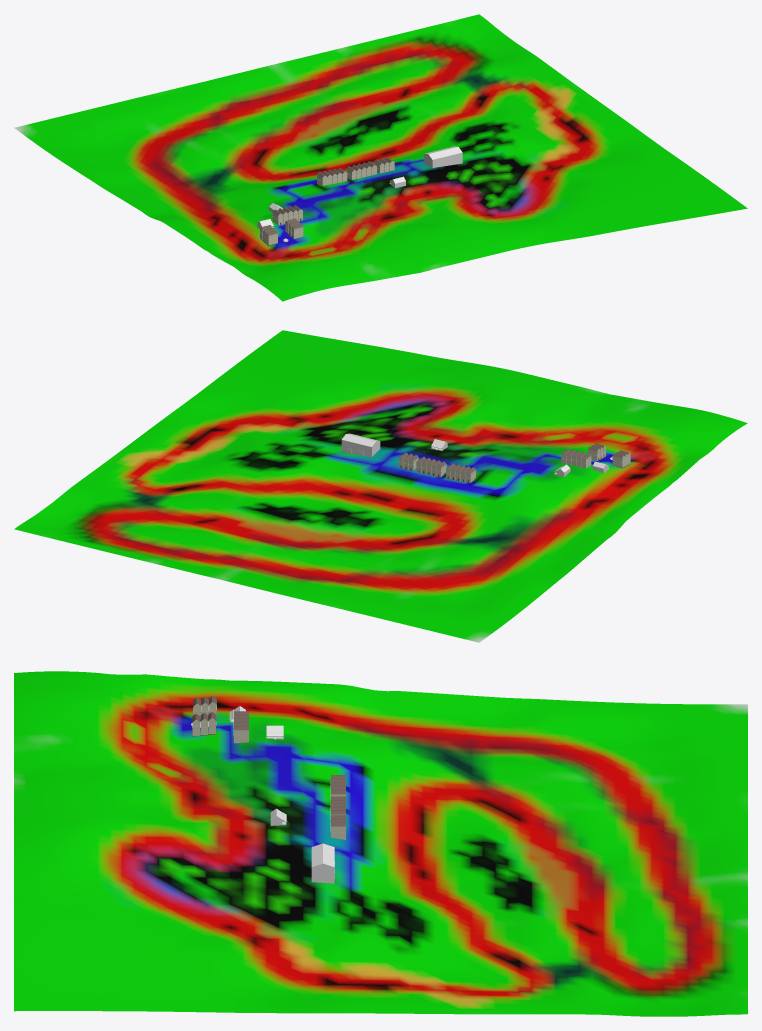
File: wild_fields.glb
3 renders of one model, top to bottom at view 1: azimuth 30°, elevation 25°; view 2: azimuth 150°, elevation 25°; view 3: azimuth 270°, elevation 25°, orthographic. The views are drawn at different scales.
Visible parts, largest first — view 1: track-col, Cube; view 2: track-col, Cube; view 3: track-col, Cube.
Boxes of the visible parts, <box> form: track-col: <box>14,14,747,301</box>; Cube: <box>424,146,462,167</box>; track-col: <box>14,330,747,642</box>; Cube: <box>341,433,380,456</box>; track-col: <box>14,671,747,1016</box>; Cube: <box>311,843,334,883</box>.
Bounding box in the file's own units: 640 × 50.08 × 640.
Materials: 2 (1 with a texture image).
